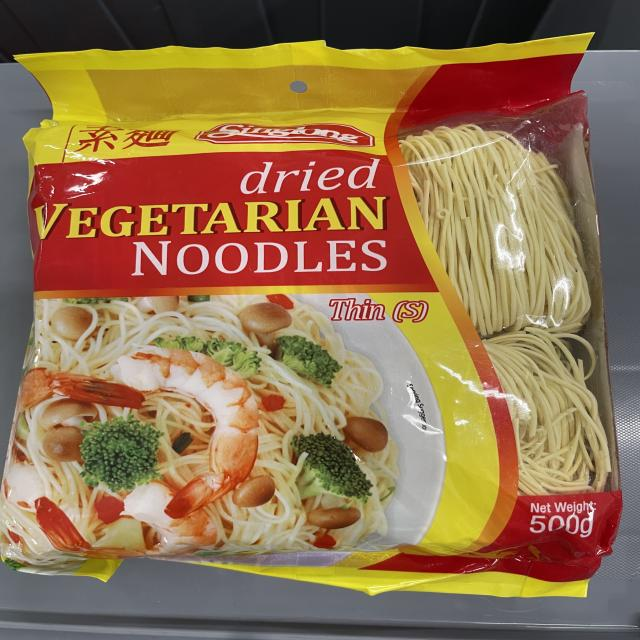object_name: (24, 68, 606, 578)
